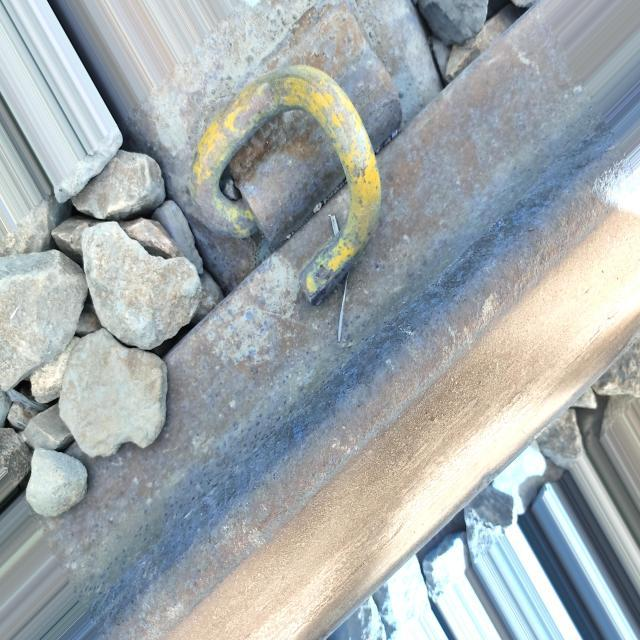Good Fasteners: (189, 2, 401, 280)
